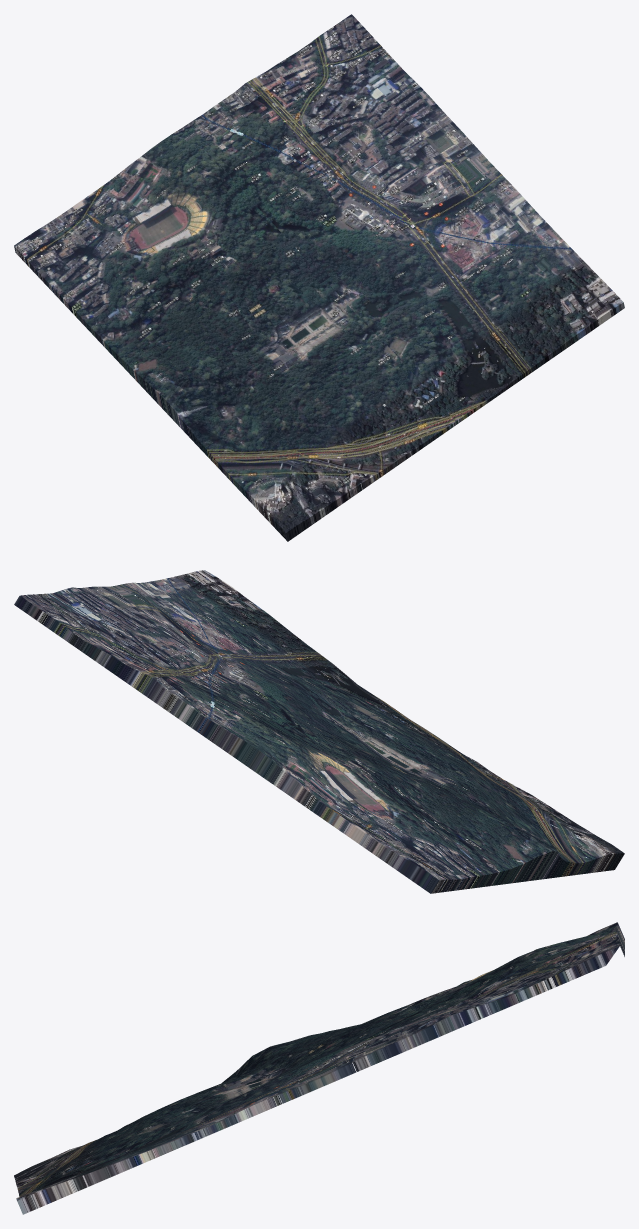
3 renders of one model, top to bottom at view 1: azimuth 30°, elevation 25°; view 2: azimuth 150°, elevation 25°; view 3: azimuth 270°, elevation 25°, orthographic. The views are drawn at different scales.
Visible parts, largest first — view 1: 1_3_5; view 2: 1_3_5; view 3: 1_3_5.
Boxes of the visible parts, bbox=[...] form: 1_3_5: bbox=[14, 14, 624, 541]; 1_3_5: bbox=[14, 570, 624, 893]; 1_3_5: bbox=[14, 922, 624, 1214].
Bounding box in the file's own units: 1235 × 903 × 1136.
Materials: 1 (1 with a texture image).
